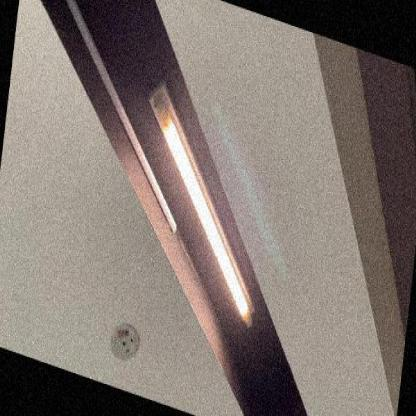light_on: (123, 67, 287, 341)
